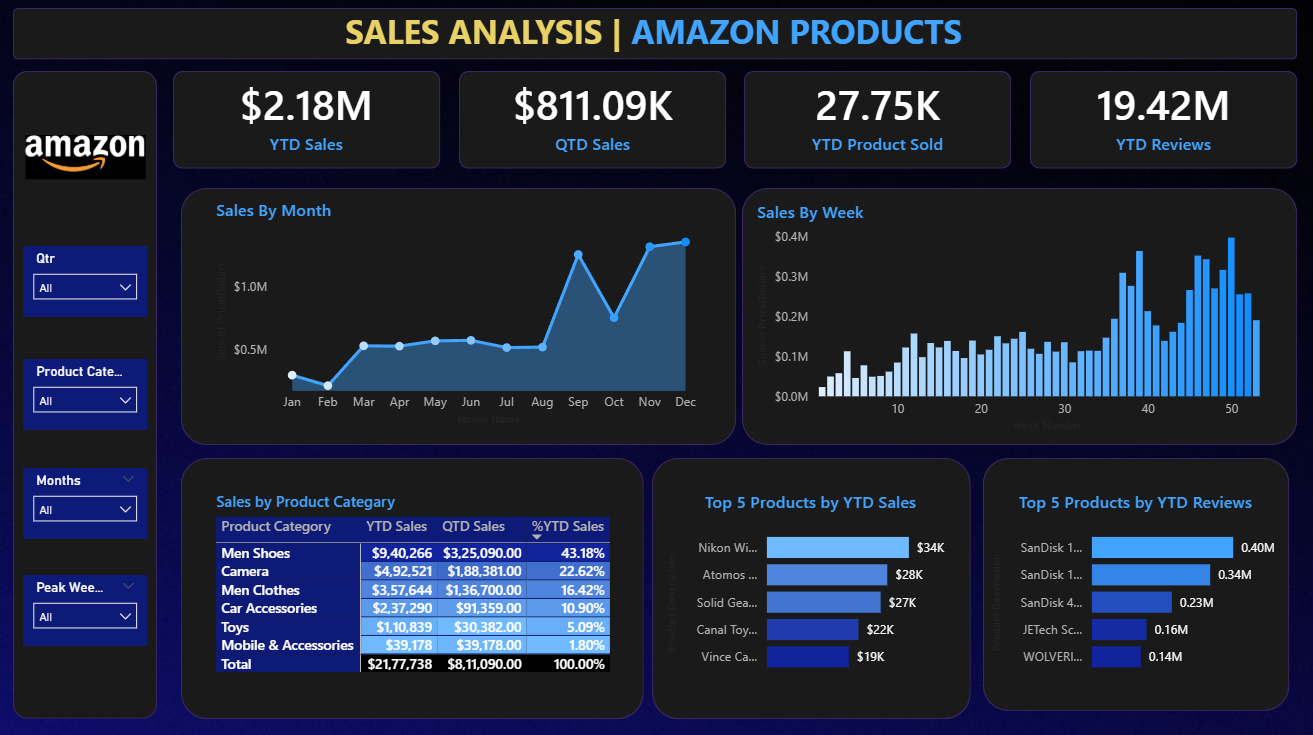

This screenshot's page, from the dashboard's own definition file:
{"tool":"powerbi","page":{"name":"Page 1","canvas":[1280,720],"ordinal":0},"visuals":[{"type":"shape","box":[15,9,1249,50],"z":0},{"type":"shape","box":[15,70,140,630],"z":1000},{"type":"textbox","box":[333,4,613,59],"z":2000},{"type":"shape","box":[170,70,260,95],"z":3000},{"type":"shape","box":[448,70,260,95],"z":4000},{"type":"card","fields":{"Values":["Amazon_Data.YTD Sales"]},"box":[218,70,164,84],"z":5000},{"type":"shape","box":[726,70,260,95],"z":6000},{"type":"shape","box":[178,446,450,254],"z":7000},{"type":"shape","box":[1004,70,260,95],"z":8000},{"type":"card","fields":{"Values":["Amazon_Data.QTD Sales"]},"box":[480,70,196,84],"z":9000},{"type":"card","fields":{"Values":["Amazon_Data.YTD Product Sold"]},"box":[762,70,188,84],"z":10000},{"type":"card","fields":{"Values":["Amazon_Data.YTD Reviews"]},"box":[1040,70,188,84],"z":11000},{"type":"shape","box":[178,184,540,250],"z":12000},{"type":"shape","box":[724,184,540,250],"z":13000},{"type":"columnChart","title":"Sales By Week","fields":{"Category":["Date Table.Week Number"],"Y":["Sum(Amazon_Data.Price(Dollar))"]},"box":[733,196,519,229],"z":14000},{"type":"pivotTable","title":"Sales by Product Categary","fields":{"Rows":["Amazon_Data.Product Category"],"Values":["Amazon_Data.YTD Sales1","Amazon_Data.QTD Sales","Amazon_Data.YTD Sales"]},"box":[207,479,410,214],"z":15000},{"type":"shape","box":[636,446,310,254],"z":16000},{"type":"clusteredBarChart","title":"Top 5 Products by YTD Sales","fields":{"Category":["Amazon_Data.Product Description"],"Y":["Amazon_Data.YTD Sales"]},"box":[645,479,291,188],"z":17000},{"type":"shape","box":[958,446,298,246],"z":18000},{"type":"clusteredBarChart","title":"Top 5 Products by YTD Reviews","fields":{"Category":["Amazon_Data.Product Description"],"Y":["Amazon_Data.YTD Reviews"]},"box":[961,479,291,188],"z":19000},{"type":"slicer","fields":{"Values":["Amazon_Data.Product Category"]},"box":[24,350,121,69],"z":20000},{"type":"slicer","fields":{"Values":["Date Table.Qtr"]},"box":[24,456,121,69],"z":21000},{"type":"areaChart","title":"Sales By  Month","fields":{"Category":["Date Table.Month Name"],"Y":["Sum(Amazon_Data.Price(Dollar))"]},"box":[207.2,194.5,480.5,224.7],"z":22000},{"type":"slicer","fields":{"Values":["Date Table.Qtr"]},"box":[24,560,121,69],"z":24000},{"type":"slicer","fields":{"Values":["Date Table.Qtr"]},"box":[24,240,121,69],"z":25000},{"type":"cardVisual","fields":{"Data":["Amazon_Data.YTD Sales"]},"box":[9.7,25.3,402.7,183.8],"z":26000}]}

Visuals, with their boxes in screenshot pixels (x1, y1, x2, y2), scaled from the page's 1280x720 canvas onto the 1313x735 screenshot:
shape: 15, 9, 1297, 60
shape: 15, 71, 159, 715
textbox: 342, 4, 970, 64
shape: 174, 71, 441, 168
shape: 460, 71, 726, 168
card - Amazon_Data.YTD Sales: 224, 71, 392, 157
shape: 745, 71, 1011, 168
shape: 183, 455, 644, 715
shape: 1030, 71, 1297, 168
card - Amazon_Data.QTD Sales: 492, 71, 693, 157
card - Amazon_Data.YTD Product Sold: 782, 71, 974, 157
card - Amazon_Data.YTD Reviews: 1067, 71, 1260, 157
shape: 183, 188, 737, 443
shape: 743, 188, 1297, 443
"Sales By Week" columnChart: 752, 200, 1284, 434
"Sales by Product Categary" pivotTable: 212, 489, 633, 707
shape: 652, 455, 970, 715
"Top 5 Products by YTD Sales" clusteredBarChart: 662, 489, 960, 681
shape: 983, 455, 1288, 706
"Top 5 Products by YTD Reviews" clusteredBarChart: 986, 489, 1284, 681
slicer - Amazon_Data.Product Category: 25, 357, 149, 428
slicer - Date Table.Qtr: 25, 465, 149, 536
"Sales By  Month" areaChart: 213, 199, 705, 428
slicer - Date Table.Qtr: 25, 572, 149, 642
slicer - Date Table.Qtr: 25, 245, 149, 315
cardVisual - Amazon_Data.YTD Sales: 10, 26, 423, 213
